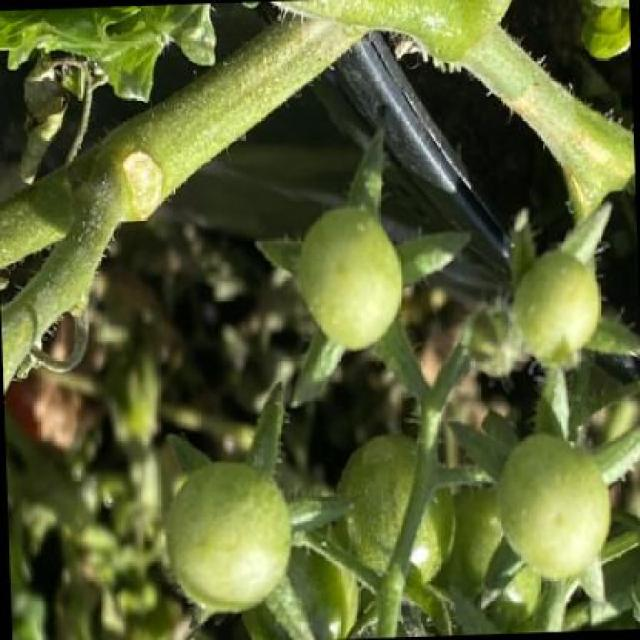unripe tomato: (157, 455, 301, 620), (328, 429, 458, 600), (286, 198, 406, 365), (495, 429, 614, 586), (504, 241, 602, 373)
